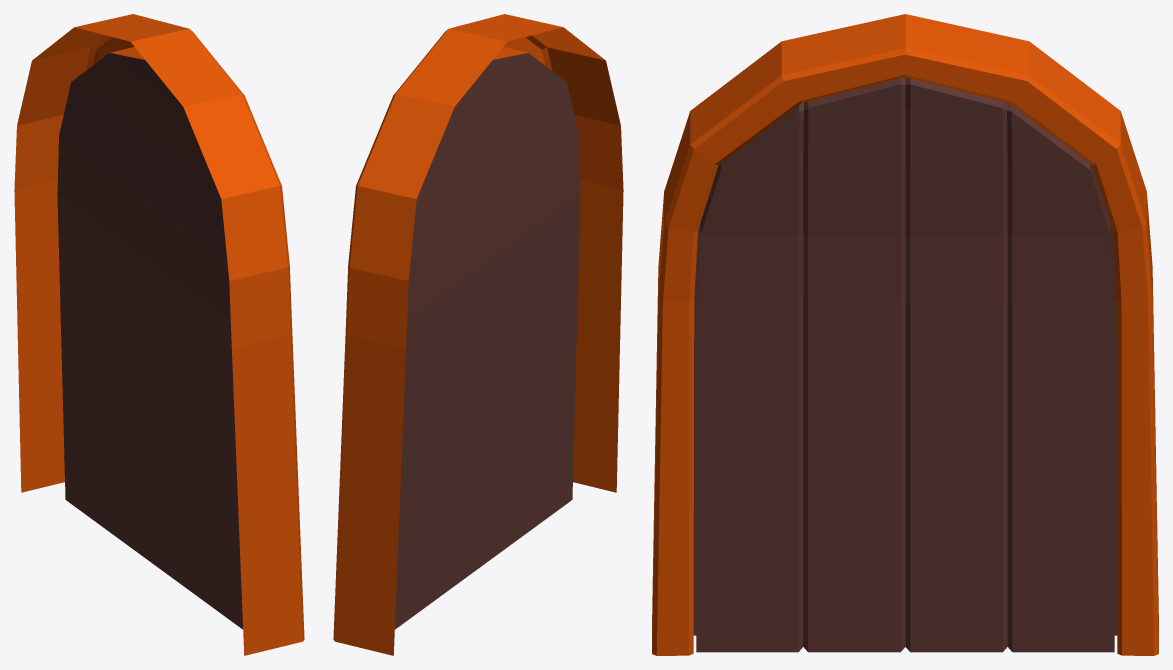
File: GEO_door.fbx
3 views of the same model, side by side, from view 1: azimuth 30°, elevation 25°; view 2: azimuth 150°, elevation 25°; view 3: azimuth 270°, elevation 25° (orthographic). The views are drawn at different scales.
Parts seen in each view (by area): view 1: GEO_door_rim; view 2: GEO_door_rim; view 3: GEO_door, GEO_door_rim.
Boxes of the visible parts, left/top/right/bottom form: GEO_door_rim: left=14, top=14, right=304, bottom=655; GEO_door_rim: left=333, top=14, right=623, bottom=655; GEO_door: left=696, top=77, right=1114, bottom=652; GEO_door_rim: left=652, top=14, right=1158, bottom=655.
Bounding box in the file's own units: 29.38 × 208 × 158.
